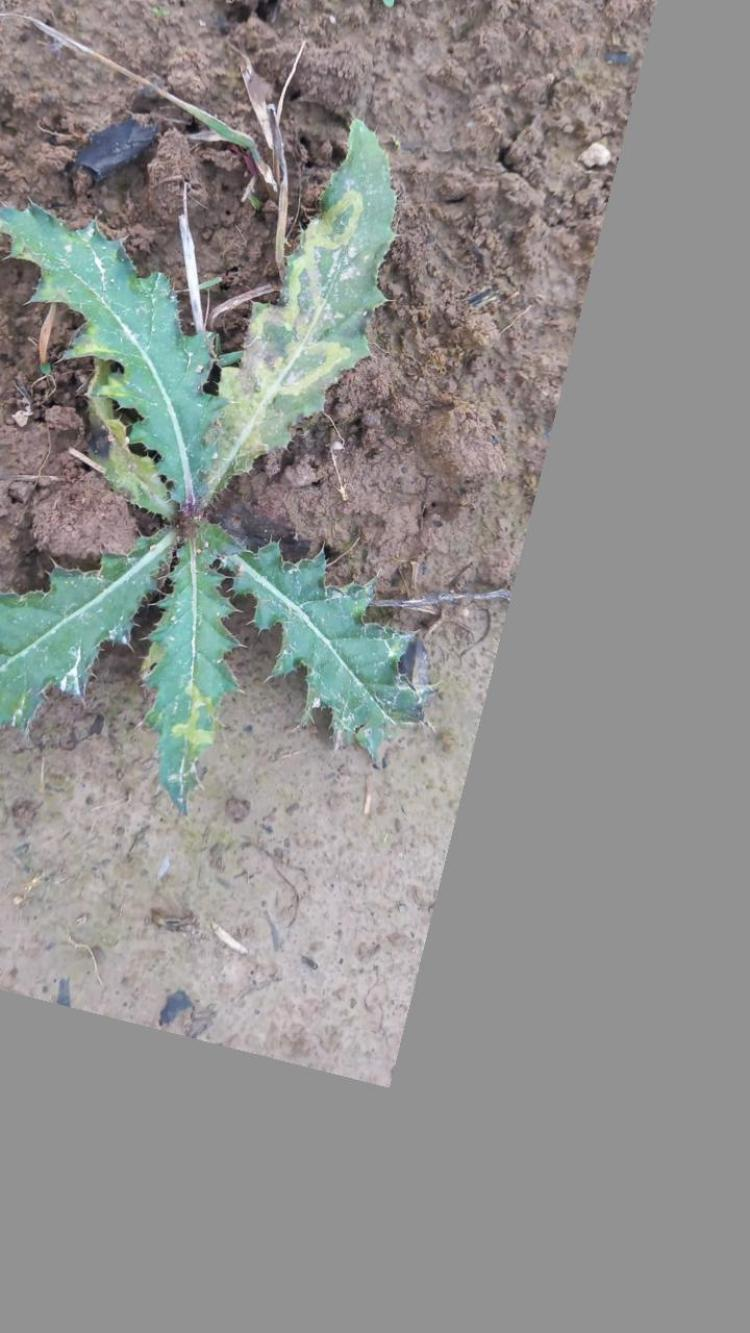osot: (6, 116, 446, 818)
